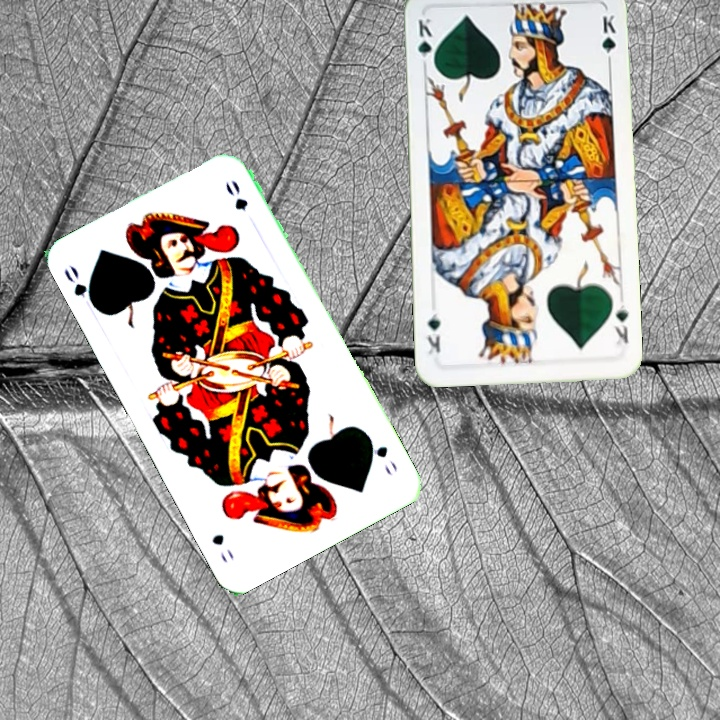GK: (413, 14, 437, 71), (610, 300, 631, 348)
GO: (60, 261, 101, 313), (362, 430, 400, 479)
